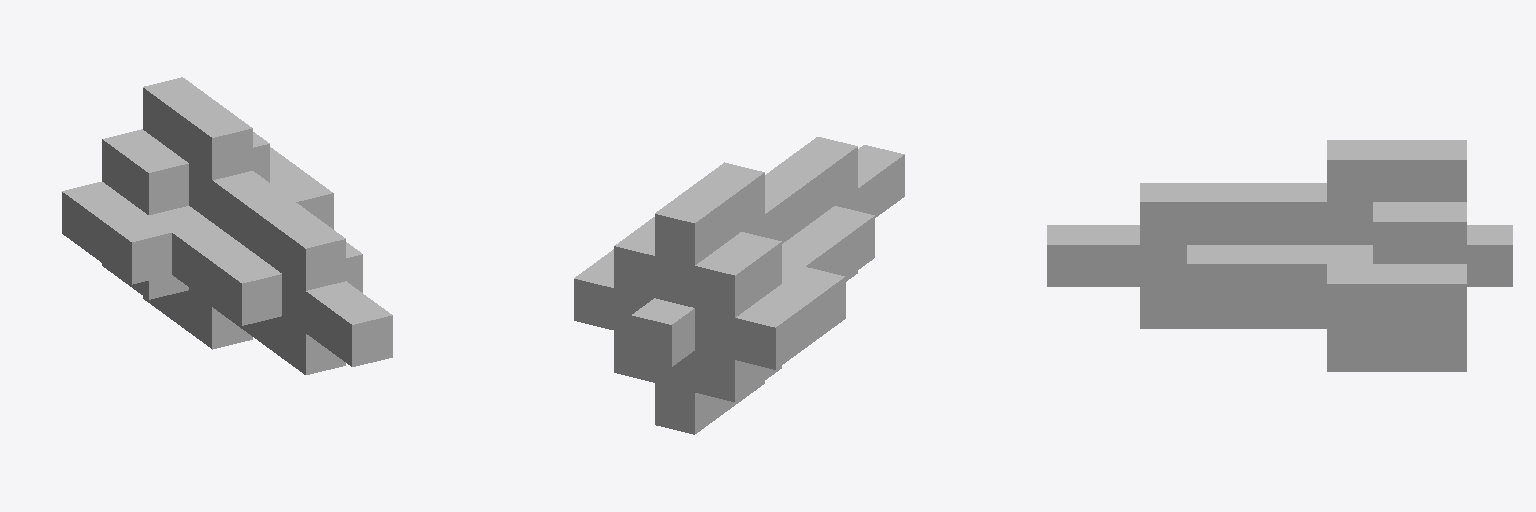
The model's file is Muzzle Flash.obj.
The picture shows the model from 3 angles: view 1: azimuth 30°, elevation 25°; view 2: azimuth 150°, elevation 25°; view 3: azimuth 270°, elevation 25°; orthographic projection.
Visible parts, largest first — view 1: Muzzle Flash; view 2: Muzzle Flash; view 3: Muzzle Flash.
Part boxes in pixels (x1,y1,x2,y2): Muzzle Flash: (62, 77, 392, 374); Muzzle Flash: (574, 137, 904, 434); Muzzle Flash: (1047, 140, 1512, 371).
Size of the model in its own units: 5 by 5 by 10.